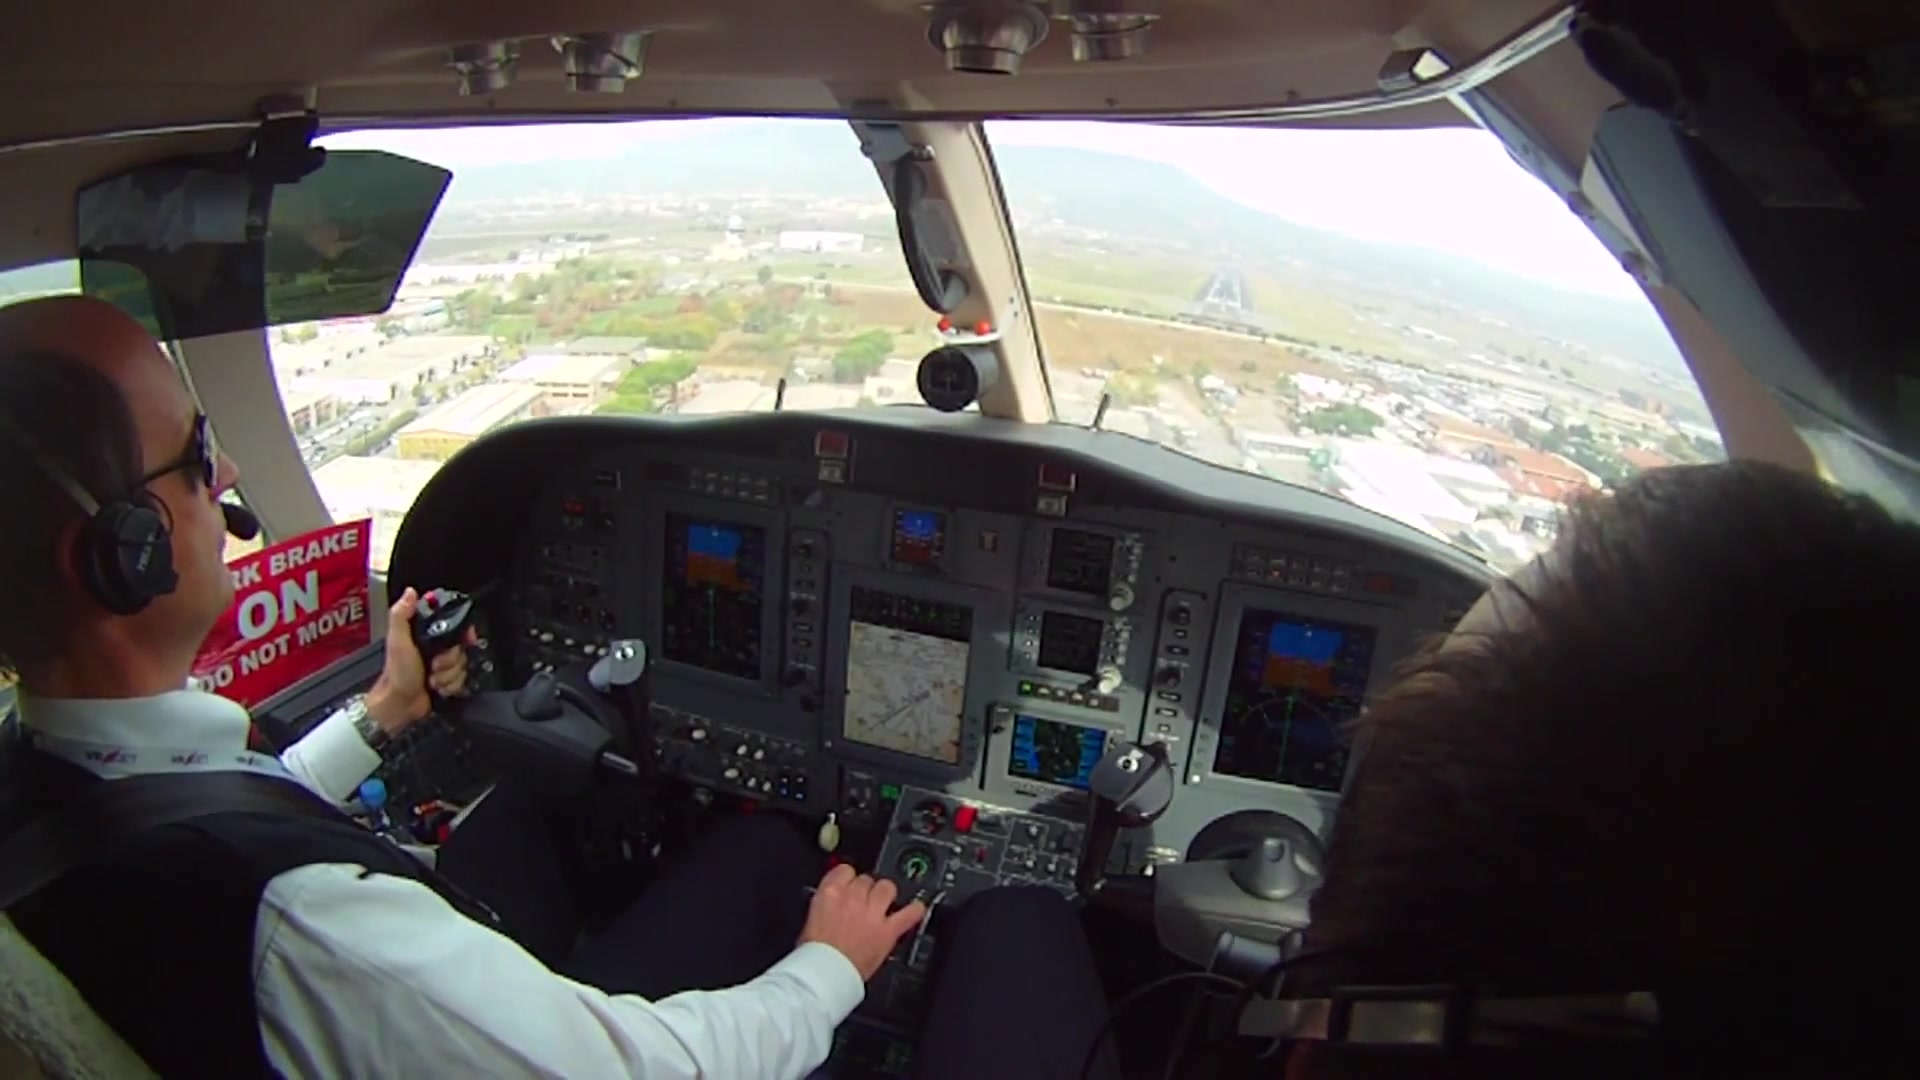entrance: (1207, 295, 1240, 309)
runway: (1205, 260, 1245, 311)
